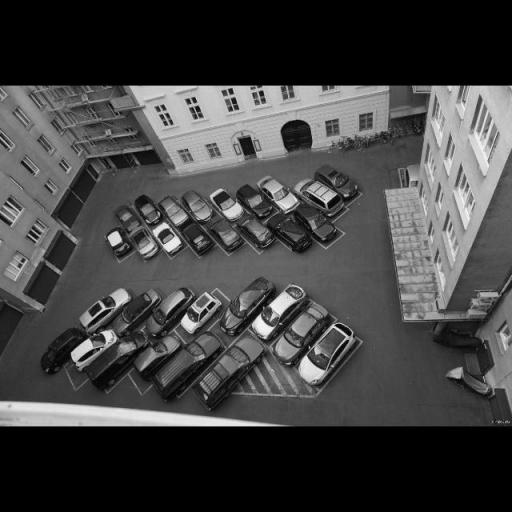busy: (154, 332, 220, 402), (270, 292, 325, 367), (300, 318, 358, 384), (200, 339, 262, 400), (84, 330, 146, 390), (225, 280, 271, 336), (141, 322, 177, 386), (71, 322, 115, 374), (88, 289, 136, 333), (178, 290, 219, 336), (149, 292, 190, 335), (42, 331, 82, 375), (298, 190, 338, 230), (300, 181, 342, 214), (300, 210, 342, 242), (321, 168, 362, 198), (260, 180, 297, 212), (276, 222, 313, 252), (238, 187, 271, 218), (242, 219, 276, 248), (182, 192, 214, 220), (210, 192, 242, 219), (213, 224, 245, 250), (186, 226, 214, 254), (160, 199, 190, 225), (157, 228, 184, 256), (136, 199, 163, 225), (107, 226, 130, 256), (136, 229, 160, 257), (114, 204, 137, 231)
